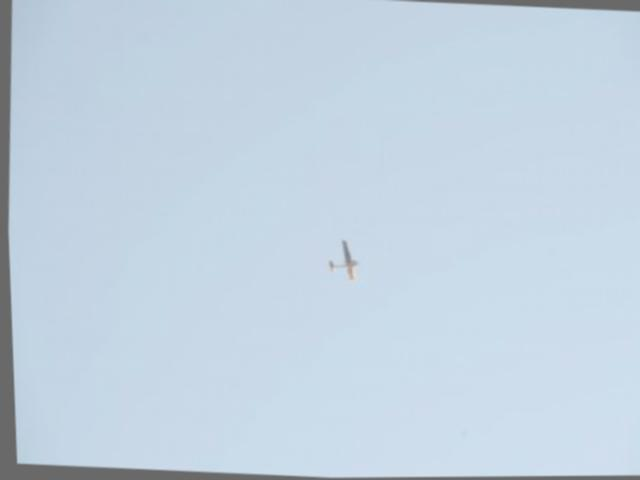uav: (316, 231, 368, 286)
